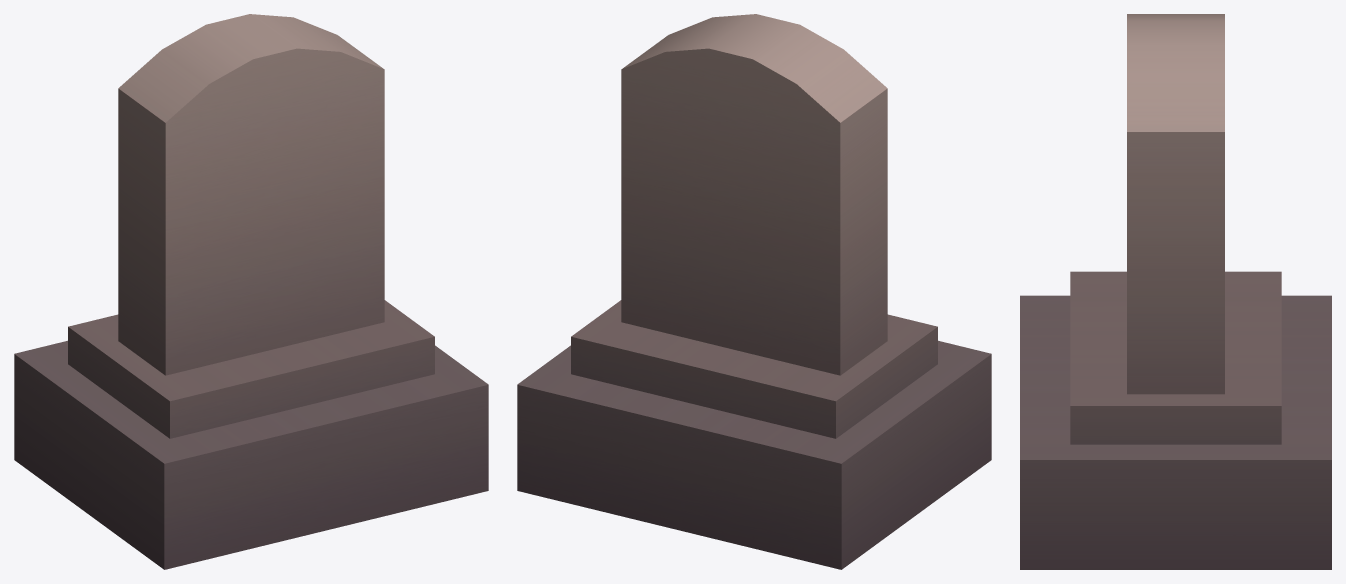
File: tombstone1.glb
The picture shows the model from 3 angles, left to right: view 1: azimuth 30°, elevation 25°; view 2: azimuth 150°, elevation 25°; view 3: azimuth 270°, elevation 25°; orthographic projection. The views are drawn at different scales.
Parts seen in each view (by area): view 1: tombstone1; view 2: tombstone1; view 3: tombstone1.
Boxes of the visible parts, left/top/right/bottom form: tombstone1: left=14, top=14, right=488, bottom=569; tombstone1: left=517, top=14, right=991, bottom=569; tombstone1: left=1020, top=14, right=1331, bottom=569.
Bounding box in the file's own units: 0.6652 × 0.8598 × 0.5339.
Materials: 1 (1 with a texture image).
